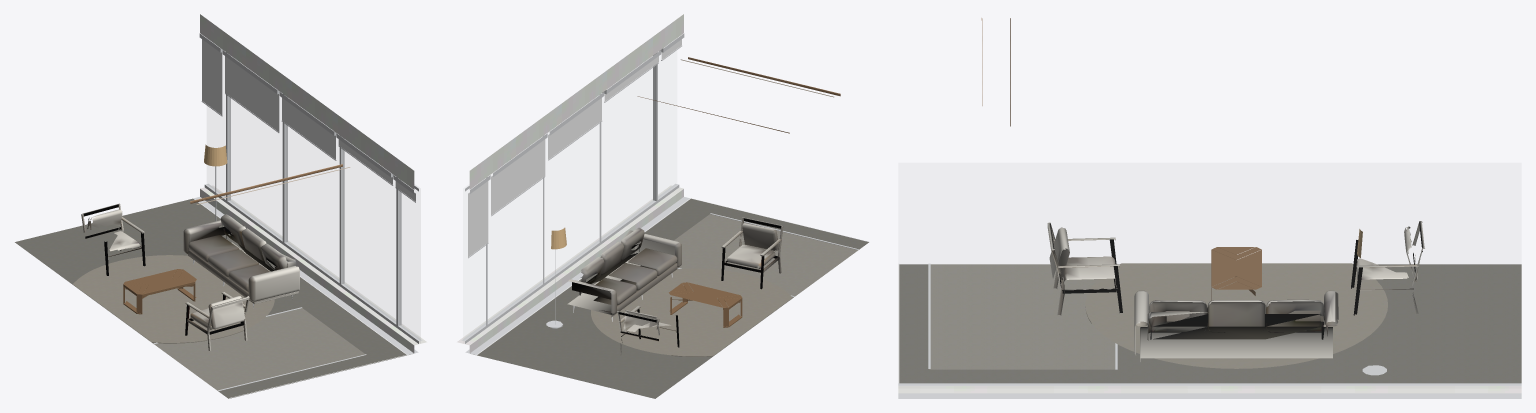
File: z-final-lite.light.1d2ed029.glb
The picture shows the model from 3 angles, left to right: view 1: azimuth 30°, elevation 25°; view 2: azimuth 150°, elevation 25°; view 3: azimuth 270°, elevation 25°; orthographic projection. The views are drawn at different scales.
Parts seen in each view (by area): view 1: final_carpet, final_satin, final_fx, final_plaster, final_modern_coffee_table_01, final_emit, final_oak, final_metal_lit; view 2: final_carpet, final_satin, final_fx, final_plaster, final_modern_coffee_table_01, final_oak, final_emit, final_metal_lit; view 3: final_carpet, final_fx, final_satin, final_plaster, final_modern_coffee_table_01.
Boxes of the visible parts, <box> form: final_carpet: <box>15,198,413,398</box>; final_satin: <box>153,33,422,391</box>; final_fx: <box>81,203,299,350</box>; final_plaster: <box>200,14,426,352</box>; final_modern_coffee_table_01: <box>123,269,196,314</box>; final_emit: <box>196,144,350,204</box>; final_oak: <box>190,164,342,203</box>; final_metal_lit: <box>193,198,408,398</box>; final_carpet: <box>470,198,868,398</box>; final_satin: <box>461,33,858,354</box>; final_fx: <box>567,217,783,355</box>; final_plaster: <box>457,14,683,352</box>; final_modern_coffee_table_01: <box>669,282,742,327</box>; final_oak: <box>637,57,840,133</box>; final_emit: <box>551,59,833,249</box>; final_metal_lit: <box>476,198,868,354</box>; final_carpet: <box>899,263,1521,383</box>; final_fx: <box>1047,221,1424,361</box>; final_satin: <box>898,263,1521,398</box>; final_plaster: <box>898,386,1521,393</box>; final_modern_coffee_table_01: <box>1211,247,1261,300</box>.
Size of the model in its own units: 3.75 by 3.3 by 7.
9 materials, 4 textured.
